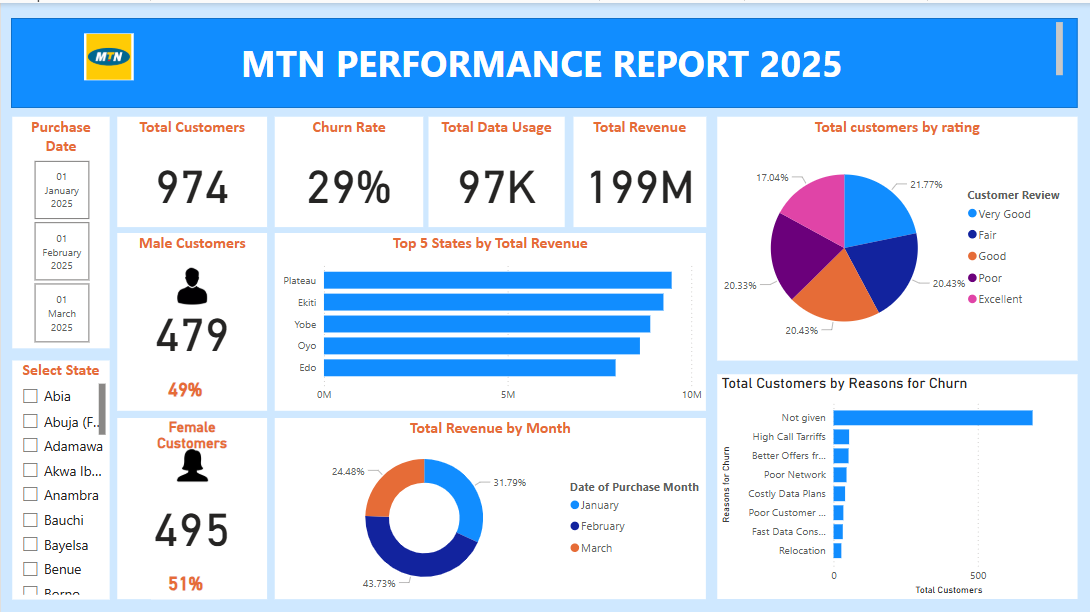

Layout of this report page (visuals, bound fields, positions):
{"tool":"powerbi","page":{"name":"Page 1","canvas":[1280,720],"ordinal":0},"visuals":[{"type":"shape","box":[12.3,17.8,1252.8,105.7],"z":0},{"type":"textbox","box":[26.4,17.6,1226,77.8],"z":1000},{"type":"pieChart","title":"Total customers by rating","fields":{"Category":["mtn_customer_churn.Customer Review"],"Y":["CountNonNull(mtn_customer_churn.Customer ID)"]},"box":[841.3,133.6,422.9,286.3],"z":2000},{"type":"donutChart","title":"Total Revenue by Month","fields":{"Category":["mtn_customer_churn.Date of Purchase.Variation.Date Hierarchy.Month"],"Y":["Sum(mtn_customer_churn.Total Revenue)"]},"box":[321.5,487.5,506.5,212.9],"z":3000},{"type":"barChart","title":"Top 5 States by Total Revenue","fields":{"Y":["Sum(mtn_customer_churn.Total Revenue)"],"Category":["mtn_customer_churn.State"]},"box":[321.5,270.2,506.5,208.5],"z":4000},{"type":"card","title":"Total Revenue","fields":{"Values":["Sum(mtn_customer_churn.Total Revenue)"]},"box":[672.5,133.6,155.6,129.2],"z":5000},{"type":"card","title":"Total Data Usage","fields":{"Values":["Sum(mtn_customer_churn.Data Usage)"]},"box":[502.1,133.6,160,129.2],"z":6000},{"type":"slicer","title":"Select State","fields":{"Values":["mtn_customer_churn.State"]},"box":[13.2,419.9,114.5,280.4],"z":7000},{"type":"slicer","title":"Purchase Date","fields":{"Values":["mtn_customer_churn.Date of Purchase"]},"box":[13.2,133.6,114.5,271.6],"z":8000},{"type":"image","box":[36.7,30.8,180.6,64.6],"z":9000},{"type":"card","title":"Total Customers","fields":{"Values":["mtn_customer_churn.Total Customers"]},"box":[136.5,133.6,176.2,129.2],"z":10000},{"type":"card","title":"Male Customers","fields":{"Values":["mtn_customer_churn.Male_Cust"]},"box":[136.5,270.2,176.2,208.5],"z":11000},{"type":"card","title":"Female Customers","fields":{"Values":["mtn_customer_churn.Female_Cust"]},"box":[136.5,487.5,176.2,212.9],"z":12000},{"type":"card","fields":{"Values":["mtn_customer_churn.%Male"]},"box":[176.2,436.1,80.8,35.2],"z":13000},{"type":"card","fields":{"Values":["mtn_customer_churn.%Female"]},"box":[176.2,662.2,80.8,38.2],"z":14000},{"type":"card","title":"Churn Rate","fields":{"Values":["mtn_customer_churn.Churn_Rate"]},"box":[321.5,133.6,174.7,129.2],"z":15000},{"type":"image","box":[198.2,305.4,52.9,54.3],"z":16000},{"type":"image","box":[185,518.3,80.8,49.9],"z":17000},{"type":"clusteredBarChart","fields":{"Category":["mtn_customer_churn.Reasons for Churn"],"Y":["mtn_customer_churn.Total Customers"]},"box":[841.3,436.1,422.9,264.3],"z":18000}]}

Visuals, with their boxes in screenshot pixels (x1, y1, x2, y2), scaled from the page's 1280x720 canvas onto the 1090x612 screenshot:
shape: [x1=10, y1=15, x2=1077, y2=105]
textbox: [x1=22, y1=15, x2=1066, y2=81]
"Total customers by rating" pieChart: [x1=716, y1=114, x2=1077, y2=357]
"Total Revenue by Month" donutChart: [x1=274, y1=414, x2=705, y2=595]
"Top 5 States by Total Revenue" barChart: [x1=274, y1=230, x2=705, y2=407]
"Total Revenue" card: [x1=573, y1=114, x2=705, y2=223]
"Total Data Usage" card: [x1=428, y1=114, x2=564, y2=223]
"Select State" slicer: [x1=11, y1=357, x2=109, y2=595]
"Purchase Date" slicer: [x1=11, y1=114, x2=109, y2=344]
image: [x1=31, y1=26, x2=185, y2=81]
"Total Customers" card: [x1=116, y1=114, x2=266, y2=223]
"Male Customers" card: [x1=116, y1=230, x2=266, y2=407]
"Female Customers" card: [x1=116, y1=414, x2=266, y2=595]
card - mtn_customer_churn.%Male: [x1=150, y1=371, x2=219, y2=401]
card - mtn_customer_churn.%Female: [x1=150, y1=563, x2=219, y2=595]
"Churn Rate" card: [x1=274, y1=114, x2=423, y2=223]
image: [x1=169, y1=260, x2=214, y2=306]
image: [x1=158, y1=441, x2=226, y2=483]
clusteredBarChart - mtn_customer_churn.Reasons for Churn x mtn_customer_churn.Total Customers: [x1=716, y1=371, x2=1077, y2=595]
